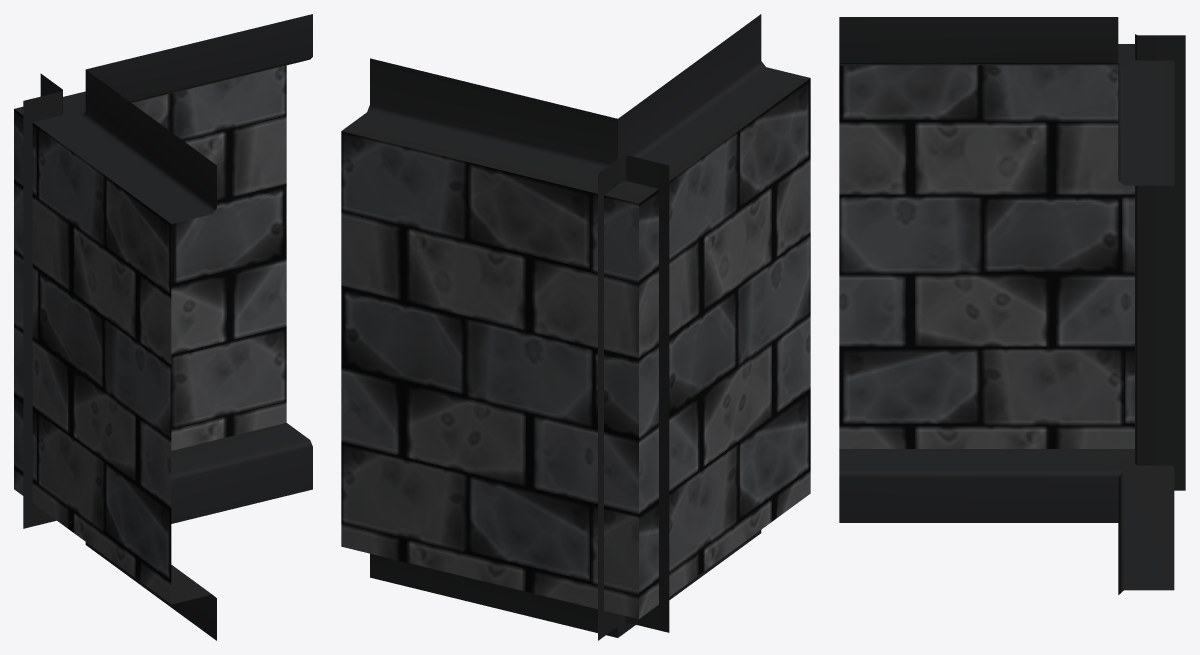
File: M_Wall_Angle_Interior_Half_Up.fbx
3 renders of one model, left to right at view 1: azimuth 30°, elevation 25°; view 2: azimuth 150°, elevation 25°; view 3: azimuth 270°, elevation 25°, orthographic. The views are drawn at different scales.
Visible parts, largest first — view 1: Wall_Angle_Interior_Half_Up; view 2: Wall_Angle_Interior_Half_Up; view 3: Wall_Angle_Interior_Half_Up.
Part boxes in pixels (left/top/right/bottom): Wall_Angle_Interior_Half_Up: left=14, top=14, right=312, bottom=640; Wall_Angle_Interior_Half_Up: left=341, top=14, right=810, bottom=640; Wall_Angle_Interior_Half_Up: left=839, top=17, right=1185, bottom=594.
Size of the model in its own units: 124 by 200 by 124.
